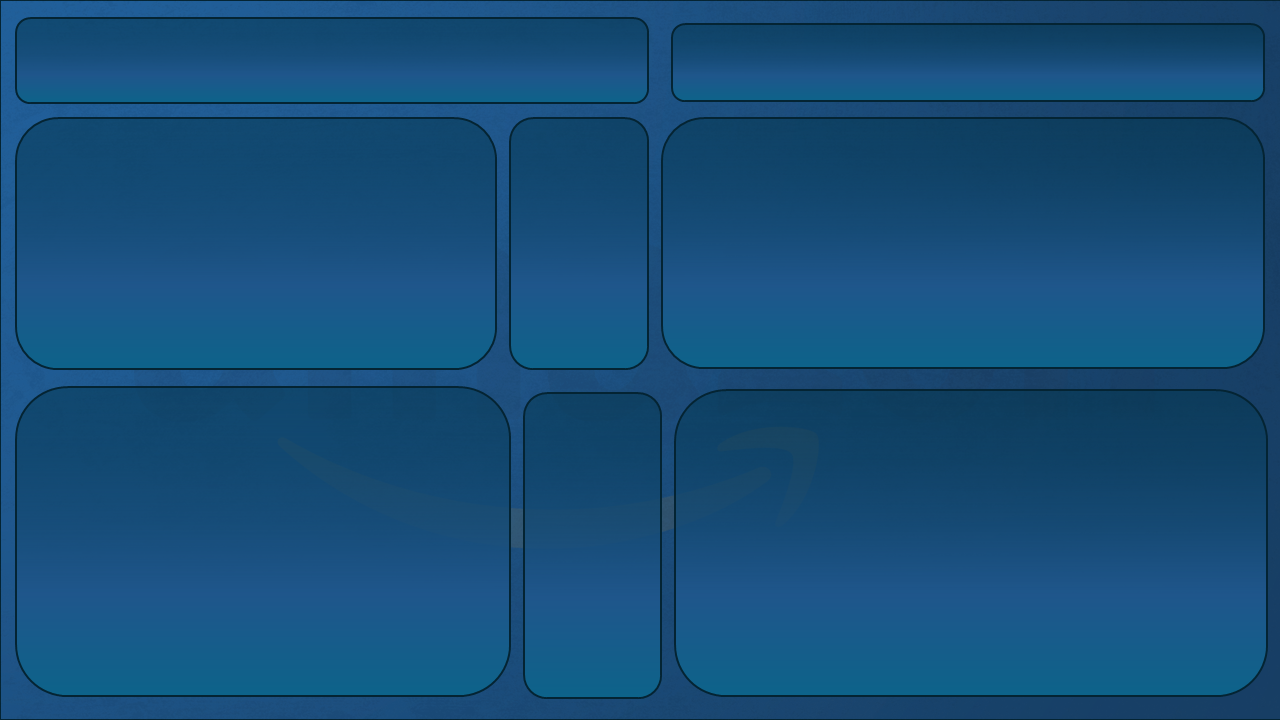

The page's visual inventory and layout, read from the dashboard file:
{"tool":"tableau","page":{"name":"Dashboard 2","canvas":[1600,900],"ordinal":0},"visuals":[{"type":"worksheet","title":"Sheet 13","mark":"Automatic","rows":["Calculation_2019020031837081604","location"],"cols":["title"],"box":[8,8,1424,884]},{"type":"filter","title":"Sheet 13","param":"[federated.1ewwgu81nvfek81cmnykp08ilopr].[none:price:qk]","box":[1432,8,160,73]},{"type":"text","box":[266,30,587,90]},{"type":"worksheet","title":"kpi Total products","mark":"Automatic","box":[855,35,172,73]},{"type":"worksheet","title":"kpi avg rating","mark":"Automatic","box":[1402,35,137,77]},{"type":"image","param":"C:/Users/never/AppData/Local/Temp/TableauTemp/014a6y90jkalm812f32u40kmaz9y/Sheet","box":[34,36,225,79]},{"type":"worksheet","title":"kpi total sales","mark":"Automatic","box":[1045,36,163,112]},{"type":"worksheet","title":"kpi avg price","mark":"Automatic","box":[1250,37,197,121]},{"type":"filter","title":"Sheet 13","param":"[federated.1ewwgu81nvfek81cmnykp08ilopr].[none:is_prime:nk]","box":[1432,81,160,82]},{"type":"worksheet","title":"sales by category","mark":"Automatic","rows":["total_sales"],"cols":["category"],"box":[27,155,572,298]},{"type":"worksheet","title":"Top 10 Sold Product","mark":"Automatic","rows":["title"],"cols":["total_sales"],"box":[848,163,712,290]},{"type":"filter","title":"Sheet 13","param":"[federated.1ewwgu81nvfek81cmnykp08ilopr].[none:Calculation_2019020031837081604:n","box":[1432,163,160,151]},{"type":"filter","title":"sales by category","param":"[federated.1ewwgu81nvfek81cmnykp08ilopr].[none:category:nk]","box":[644,168,153,249]},{"type":"filter","title":"Sheet 13","param":"[federated.1ewwgu81nvfek81cmnykp08ilopr].[none:location:nk]","box":[1432,314,160,266]},{"type":"worksheet","title":"Sales By City","mark":"Circle","box":[44,486,570,348]},{"type":"worksheet","title":"Top 10 Rated Products","mark":"Automatic","rows":["title"],"cols":["rating"],"box":[852,499,715,359]},{"type":"filter","title":"Sales By City","param":"[federated.1ewwgu81nvfek81cmnykp08ilopr].[none:location:nk]","box":[662,512,156,296]},{"type":"filter","title":"Sheet 13","param":"[federated.1ewwgu81nvfek81cmnykp08ilopr].[:Measure Names]","box":[1432,580,160,289]}]}

Visuals, with their boxes in screenshot pixels (x1, y1, x2, y2), scaled from the page's 1600x900 canvas onto the 1280x720 screenshot:
"Sheet 13" worksheet: box(6, 6, 1146, 714)
"Sheet 13" filter: box(1146, 6, 1274, 65)
text: box(213, 24, 682, 96)
"kpi Total products" worksheet: box(684, 28, 822, 86)
"kpi avg rating" worksheet: box(1122, 28, 1231, 90)
image: box(27, 29, 207, 92)
"kpi total sales" worksheet: box(836, 29, 966, 118)
"kpi avg price" worksheet: box(1000, 30, 1158, 126)
"Sheet 13" filter: box(1146, 65, 1274, 130)
"sales by category" worksheet: box(22, 124, 479, 362)
"Top 10 Sold Product" worksheet: box(678, 130, 1248, 362)
"Sheet 13" filter: box(1146, 130, 1274, 251)
"sales by category" filter: box(515, 134, 638, 334)
"Sheet 13" filter: box(1146, 251, 1274, 464)
"Sales By City" worksheet (Circle marks): box(35, 389, 491, 667)
"Top 10 Rated Products" worksheet: box(682, 399, 1254, 686)
"Sales By City" filter: box(530, 410, 654, 646)
"Sheet 13" filter: box(1146, 464, 1274, 695)
